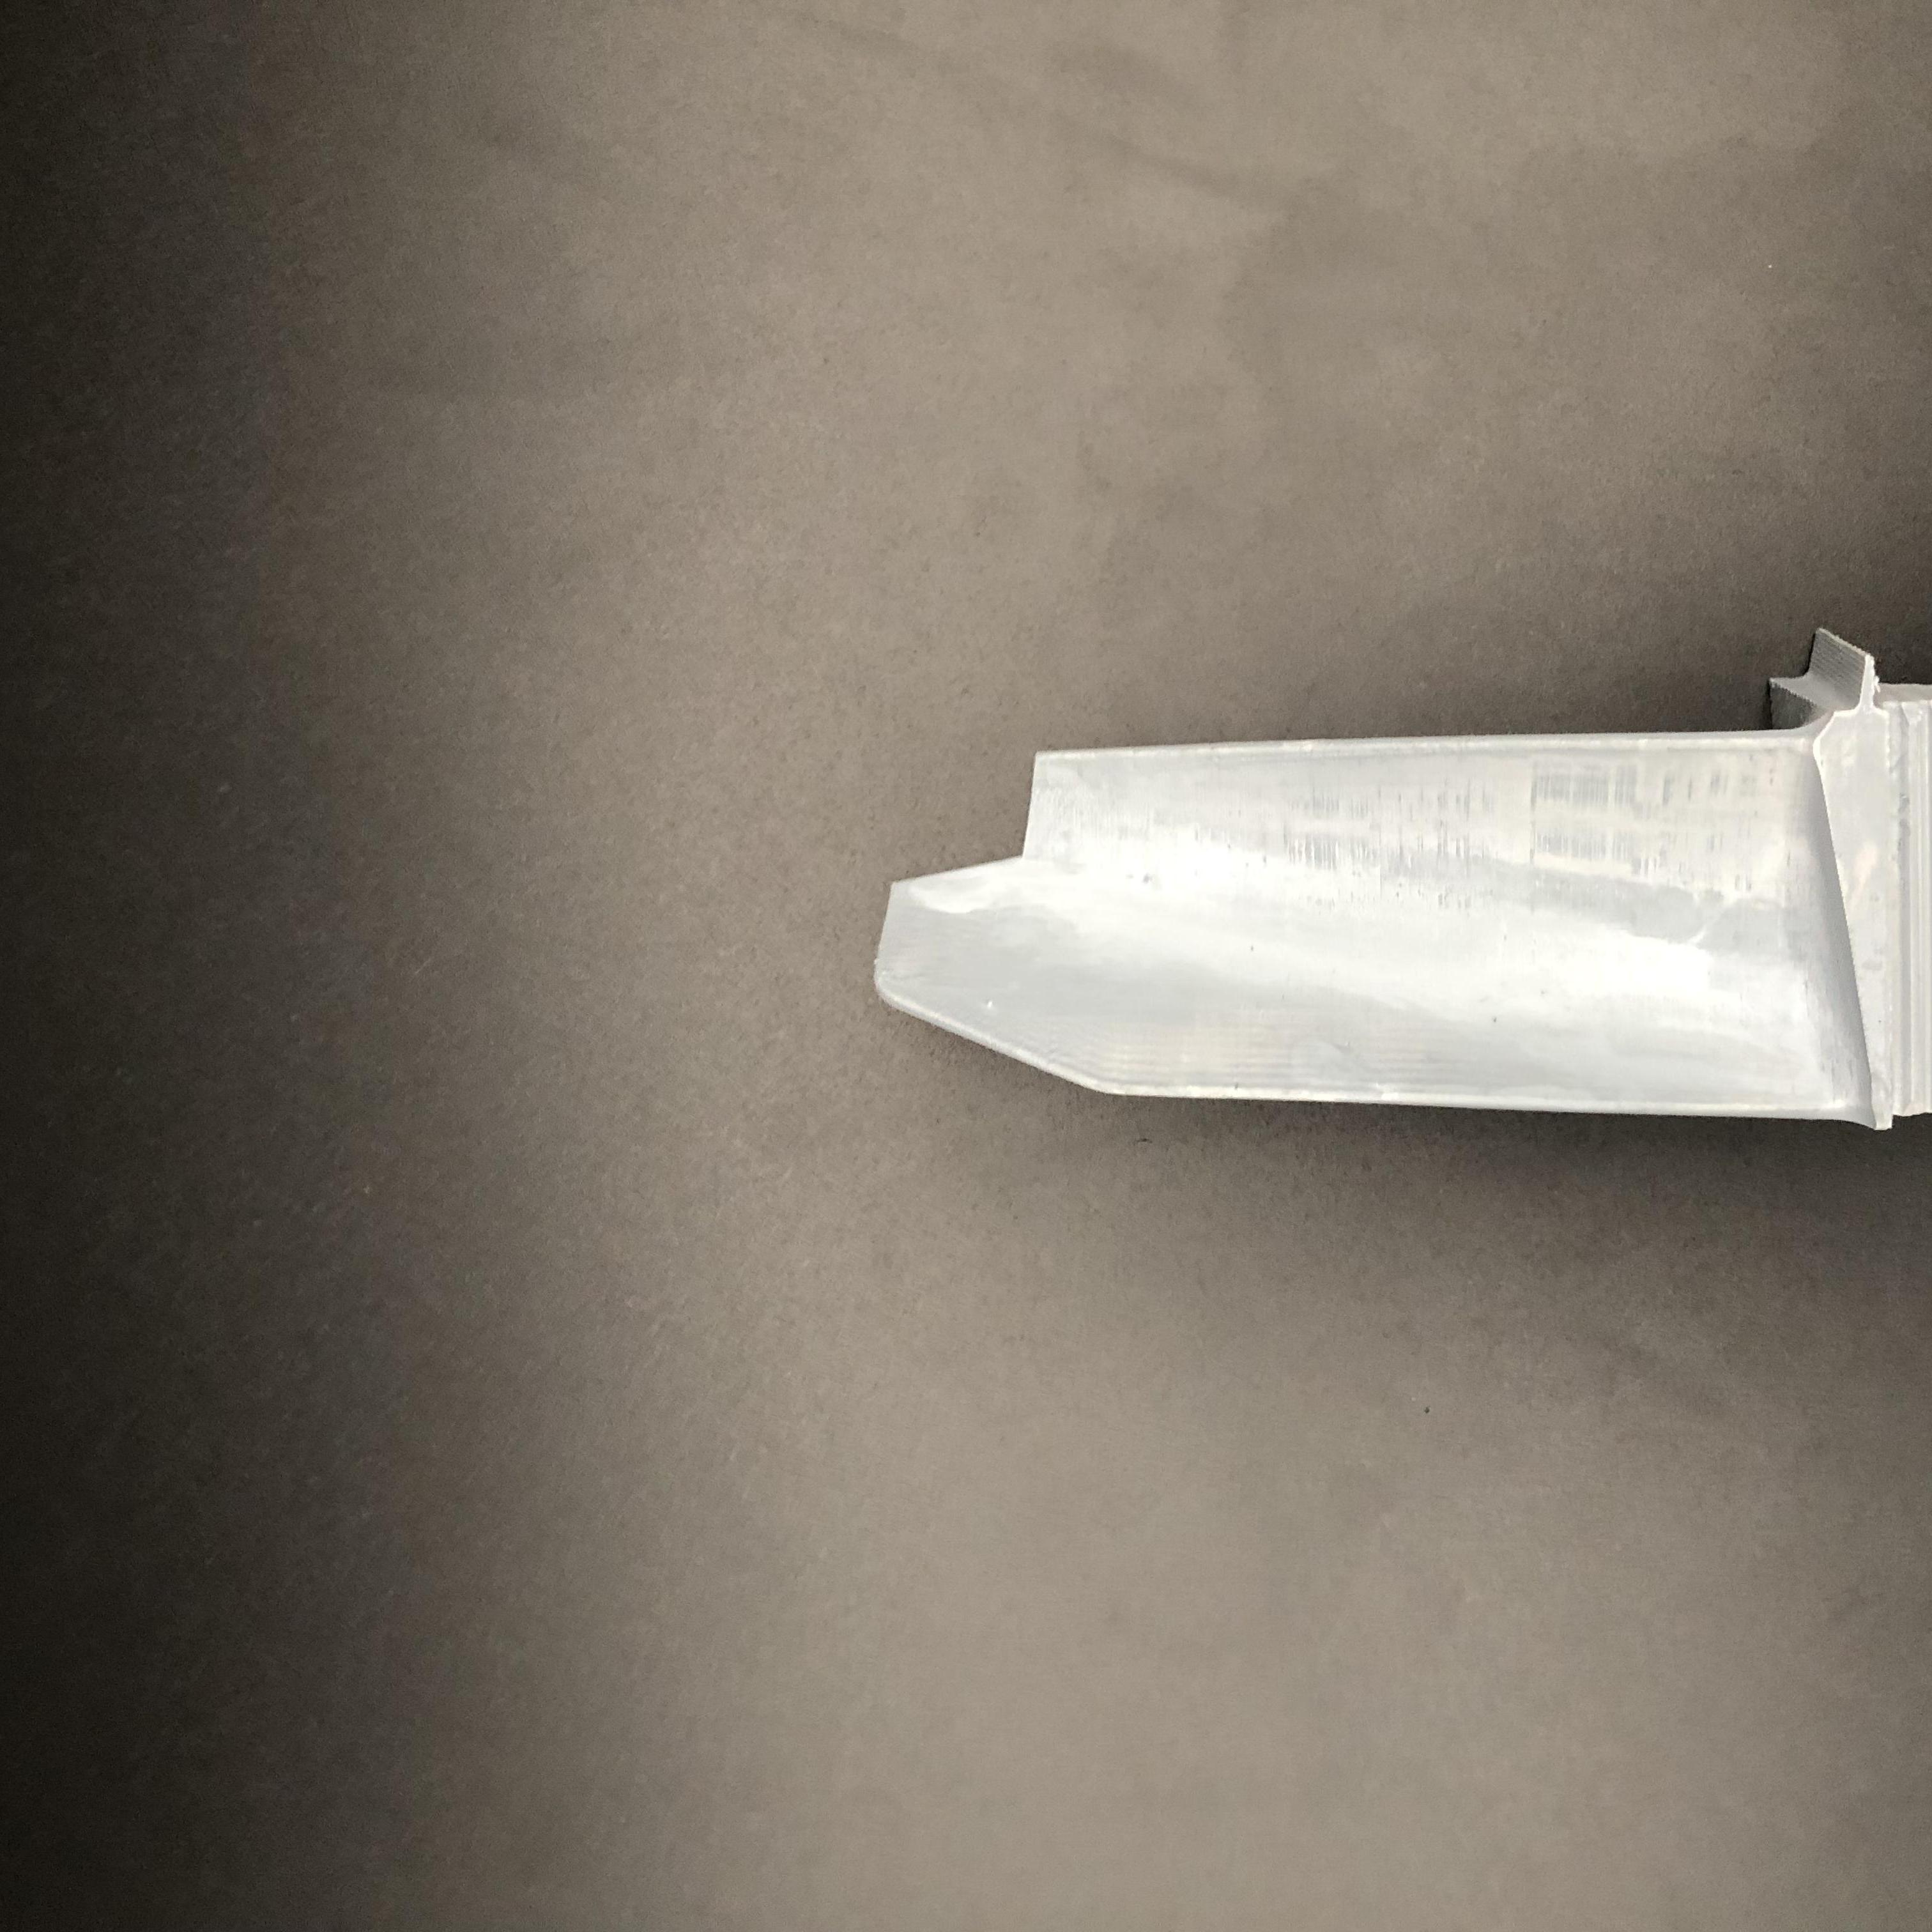fracture: (885, 761, 1076, 895)
